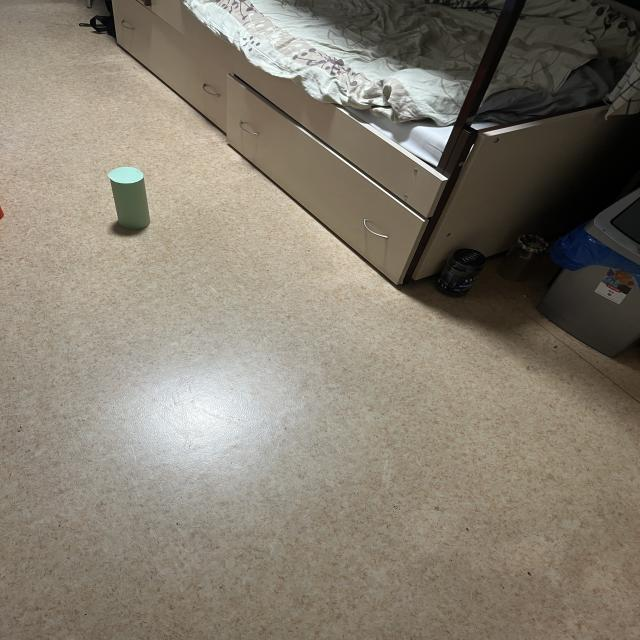meta: (108, 167, 150, 229)
